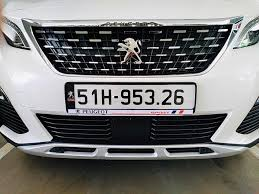number-plate: (74, 83, 196, 108)
